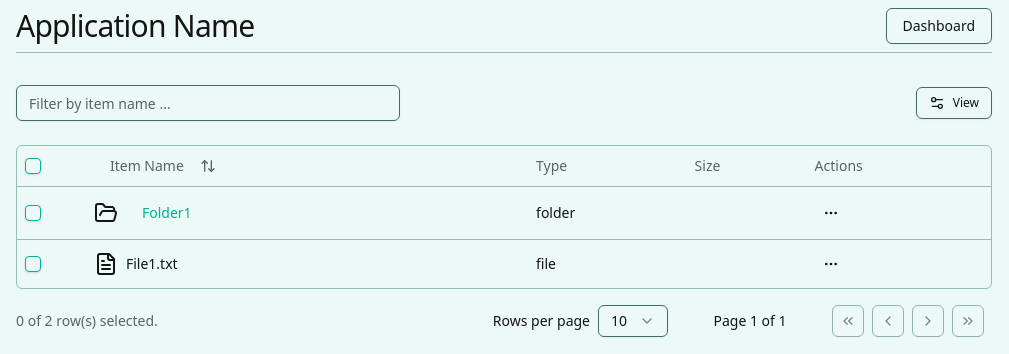
Test: ListUnstructuredData test cases › Shows "Download items" button after clicking a row checkbox
This screenshot has width=1009, height=354.
Expected: the button "Folder1" is shown, [126, 194, 208, 230]
Expected: the text "File1.txt" is shown, [126, 254, 178, 274]
# Click the first row's checkbox
Click the checkbox named "Select all" at (33, 166), box [25, 158, 41, 174]
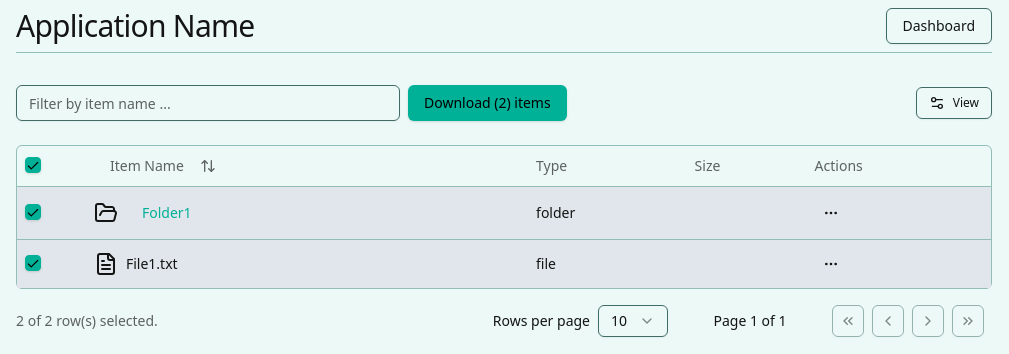
Expected: the button "Download (2) items" is shown, [408, 85, 567, 121]
